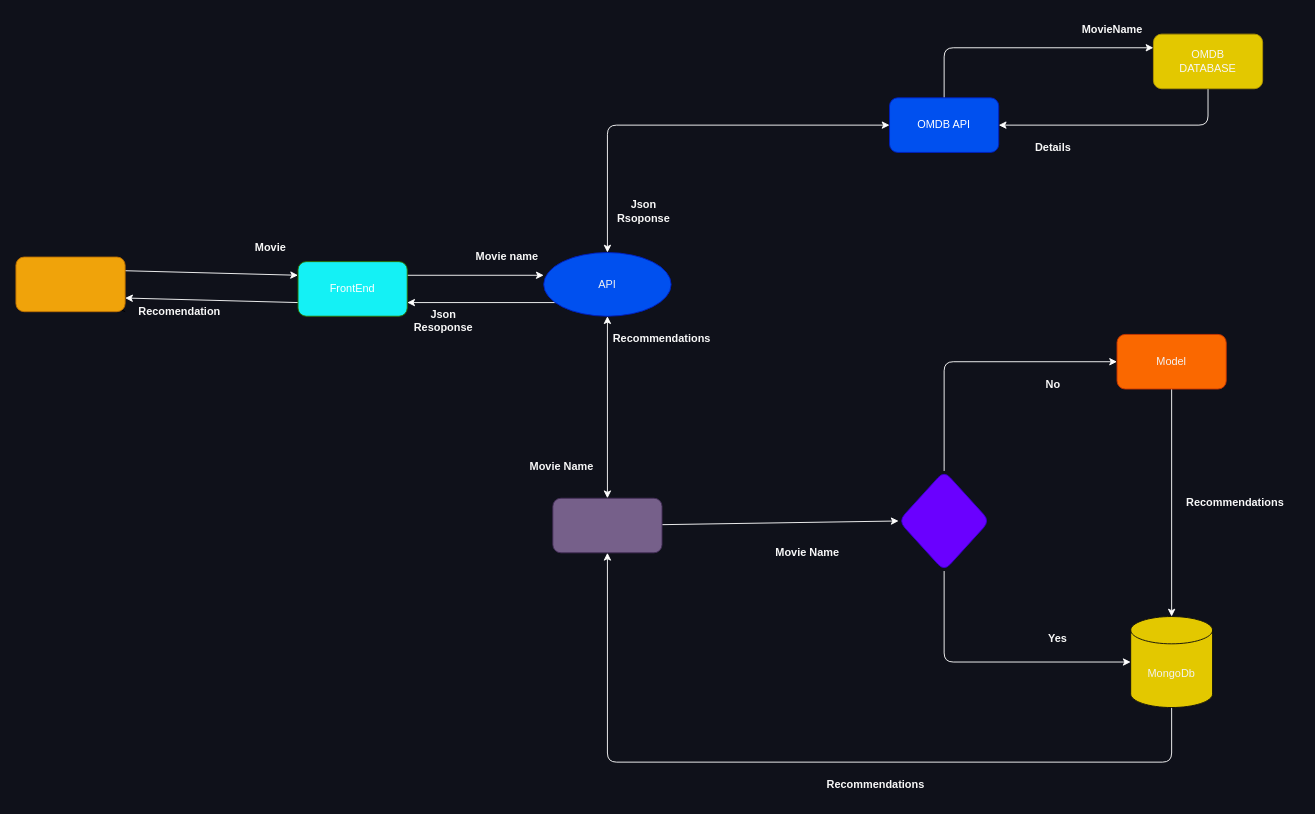
This 1315x814 diagram has some shape labels left out. The shapes that lost their labels are listed below. From the top down, each one's centre as x and y in pixels, then its label:
At (x=70, y=284): "User".
At (x=607, y=525): "Backend".
At (x=944, y=520): "Previously Searched".
